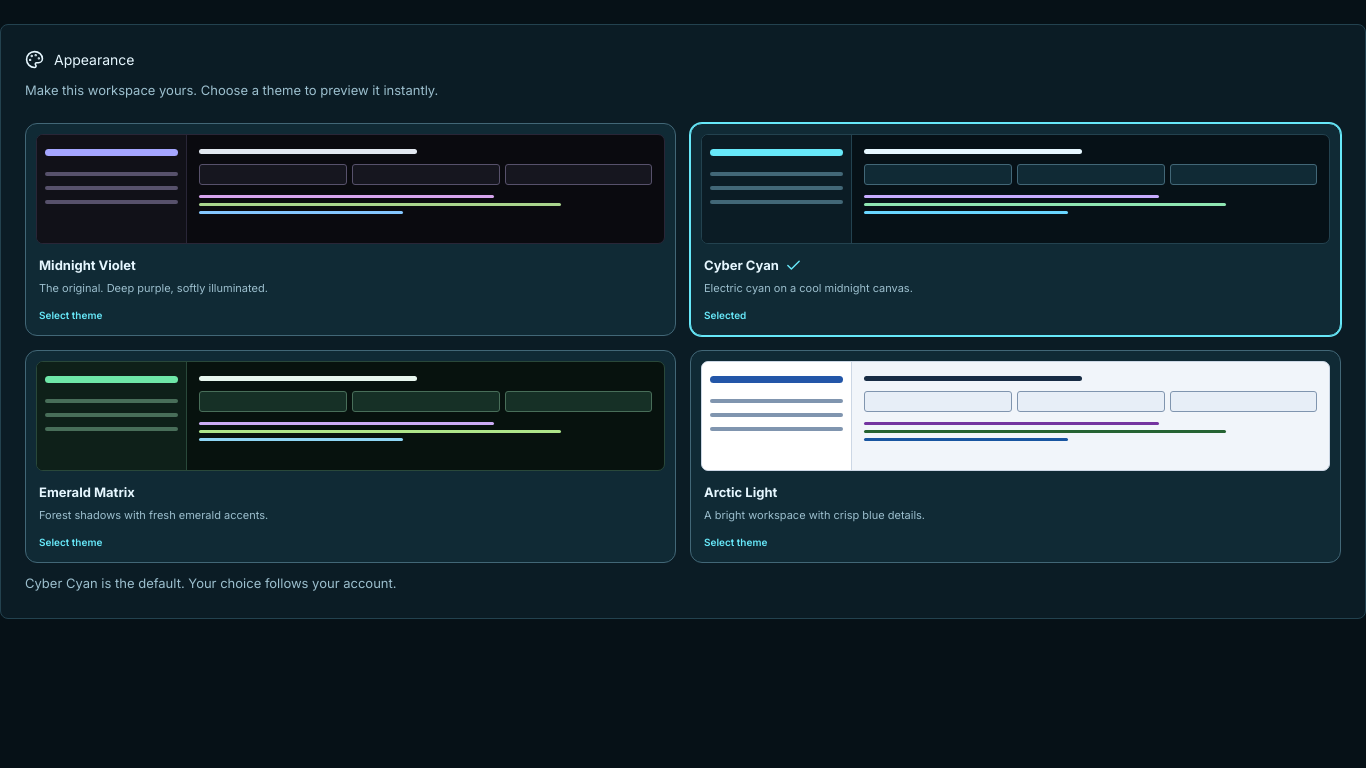
retains a failed save across refresh and allows retry without claiming account sync
The width and height of the screenshot is (1366, 768).
Later steps or results of the test are not shown.
Click the button "Midnight Violet" at (350, 229), box [25,123,676,336]
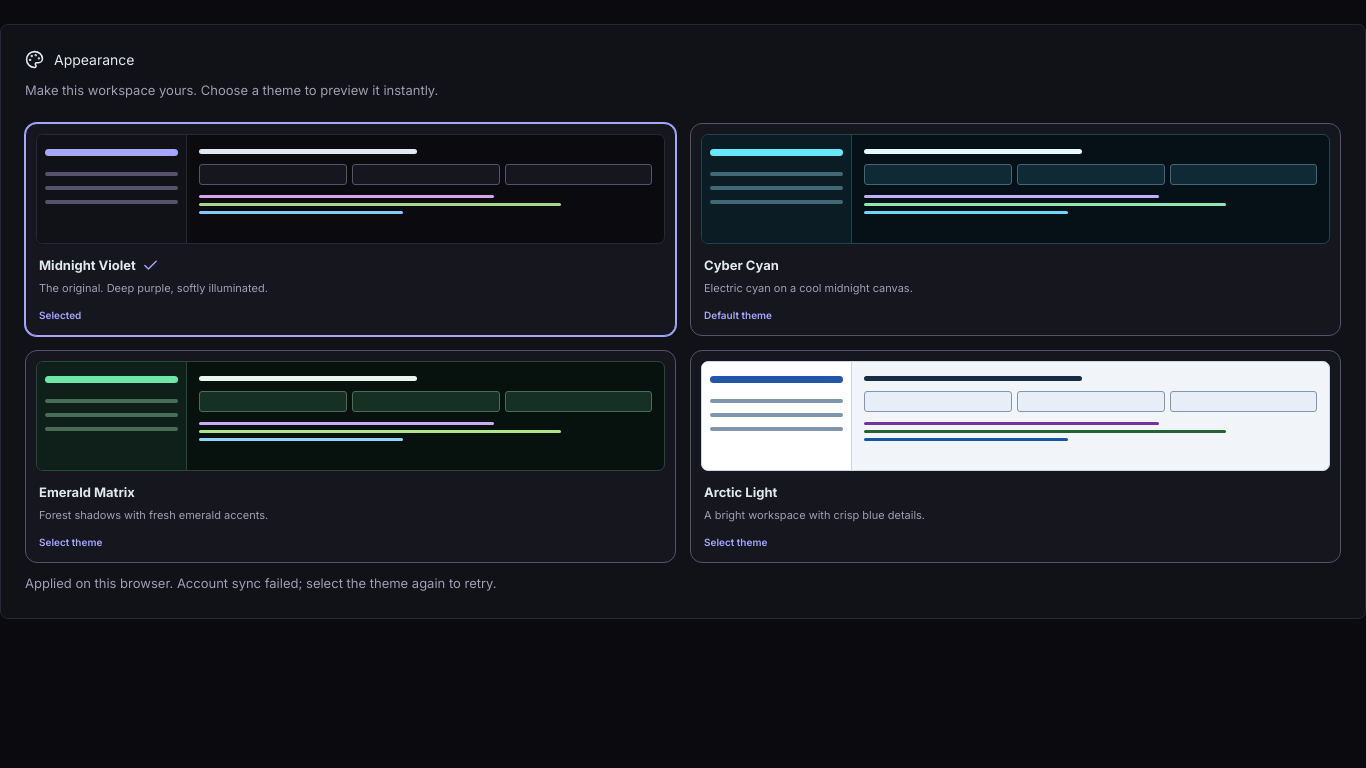
Expected: the text "Applied on this browser. Account sync failed; select the theme again to retry." is shown, [25,575,497,591]
